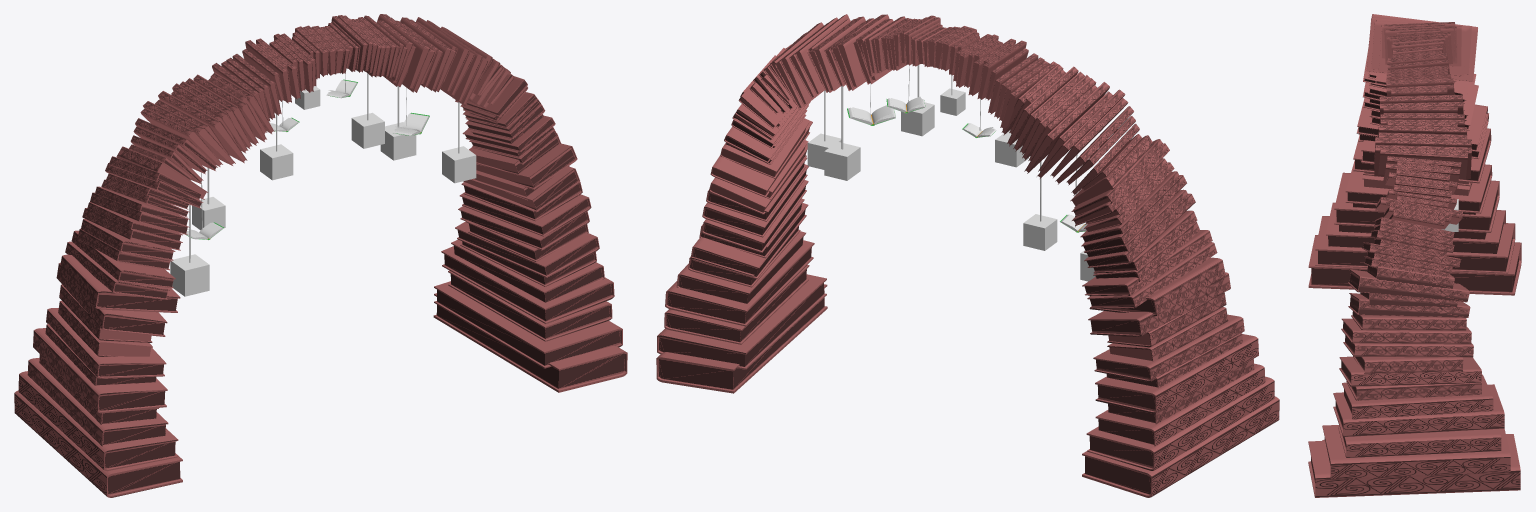
3 views of the same model, side by side, from view 1: azimuth 30°, elevation 25°; view 2: azimuth 150°, elevation 25°; view 3: azimuth 270°, elevation 25° (orthographic). The views are drawn at different scales.
Visible parts, largest first — view 1: Cylinder.053, Cylinder.001, Cylinder.054, Cylinder.002, Cylinder.051, Cylinder.087, Cylinder.003, Cylinder.052, Cylinder.006, Cylinder.009, Cylinder.050, Cylinder.104 (+51 smaller); view 2: Cylinder.001, Cylinder.002, Cylinder.053, Cylinder.087, Cylinder.054, Cylinder.003, Cylinder.051, Cylinder.006, Cylinder.052, Cylinder.008, Cylinder.009, Cylinder.050 (+49 smaller); view 3: Cylinder.054, Cylinder.053, Cylinder.051, Cylinder.052, Cylinder.050, Cylinder.002, Cylinder.001, Cylinder.104, Cylinder.087, Cylinder.047, Cylinder.003, Cylinder.045 (+63 smaller).
Part boxes in pixels (x1,y1,x2,y2): Cylinder.053: [434, 281, 622, 368]; Cylinder.001: [14, 390, 182, 497]; Cylinder.054: [433, 293, 627, 392]; Cylinder.002: [18, 371, 178, 471]; Cylinder.051: [441, 246, 614, 323]; Cylinder.087: [33, 328, 167, 413]; Cylinder.003: [27, 357, 168, 446]; Cylinder.052: [448, 270, 612, 341]; Cylinder.006: [46, 308, 166, 378]; Cylinder.009: [59, 254, 180, 312]; Cylinder.050: [451, 239, 604, 302]; Cylinder.104: [455, 221, 599, 277]; Cylinder.001: [1082, 396, 1279, 497]; Cylinder.002: [1086, 376, 1274, 470]; Cylinder.053: [657, 274, 826, 369]; Cylinder.087: [1095, 334, 1258, 413]; Cylinder.054: [656, 284, 827, 393]; Cylinder.003: [1095, 363, 1265, 446]; Cylinder.051: [665, 240, 814, 326]; Cylinder.006: [1093, 314, 1244, 381]; Cylinder.052: [664, 265, 809, 344]; Cylinder.008: [1088, 272, 1230, 336]; Cylinder.009: [1089, 257, 1225, 316]; Cylinder.050: [676, 231, 805, 303]; Cylinder.054: [1308, 434, 1520, 497]; Cylinder.053: [1322, 425, 1510, 479]; Cylinder.051: [1333, 384, 1504, 436]; Cylinder.052: [1338, 426, 1501, 457]; Cylinder.050: [1342, 374, 1493, 419]; Cylinder.002: [1315, 216, 1515, 273]; Cylinder.001: [1308, 235, 1521, 295]; Cylinder.104: [1339, 356, 1481, 386]; Cylinder.087: [1334, 172, 1499, 232]; Cylinder.047: [1341, 318, 1471, 344]; Cylinder.003: [1326, 202, 1505, 253]; Cylinder.045: [1348, 269, 1469, 302].
Size of the model in its own units: 5.04 by 3.34 by 1.88.
Materials: 5 (2 with a texture image).
